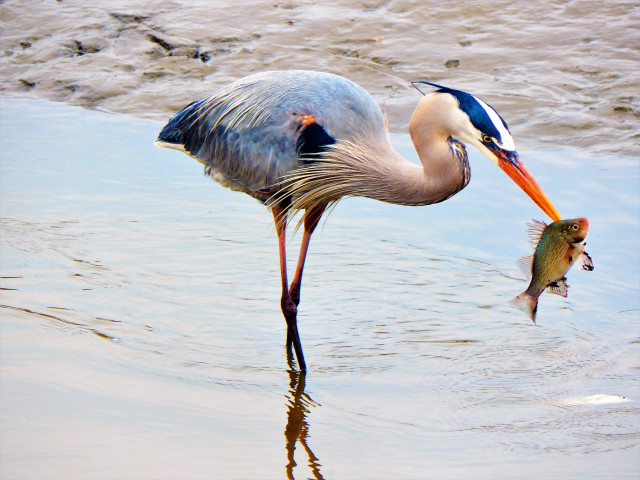heron: (150, 73, 598, 383)
